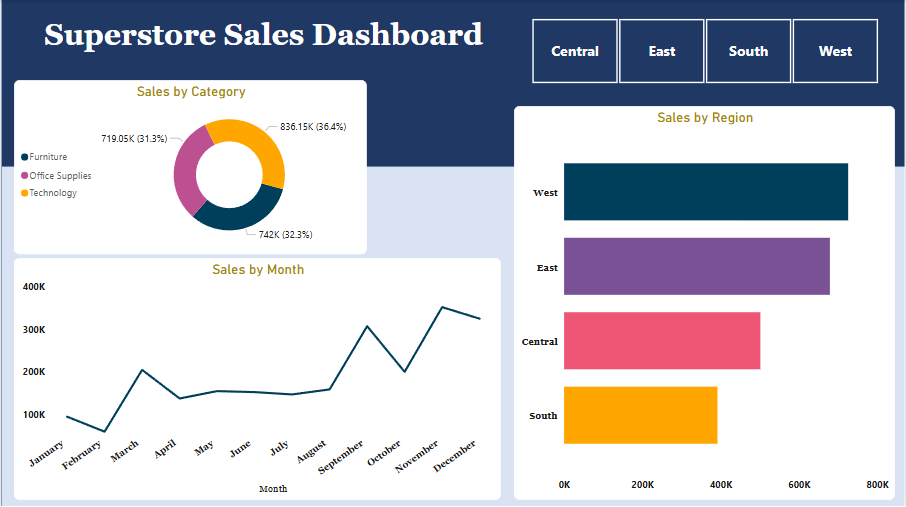

The dashboard page shown, as its layout file describes it:
{"tool":"powerbi","page":{"name":"Page 1","canvas":[1280,720],"ordinal":0},"visuals":[{"type":"lineChart","title":"Sales by Month","fields":{"Y":["Sum(Orders.Sales)"],"Category":["Orders.Order Date.Variation.Date Hierarchy.Month"]},"box":[18.4,365.7,690.2,343],"z":0},{"type":"barChart","title":"Sales by Region","fields":{"Y":["Sum(Orders.Sales)"],"Category":["Orders.Region"]},"box":[727.1,150.2,540,558.4],"z":1},{"type":"donutChart","title":"Sales by Category","fields":{"Y":["Sum(Orders.Sales)"],"Series":["Orders.Category"]},"box":[18.4,113.4,500.3,246.6],"z":2},{"type":"textbox","box":[0,19.8,744.1,75.1],"z":3},{"type":"slicer","fields":{"Values":["Orders.Region"]},"box":[727.1,19.8,540,104.9],"z":4}]}

Visuals, with their boxes in screenshot pixels (x1, y1, x2, y2), scaled from the page's 1280x720 canvas onto the 906x507 screenshot:
"Sales by Month" lineChart: left=13, top=258, right=502, bottom=499
"Sales by Region" barChart: left=515, top=106, right=897, bottom=499
"Sales by Category" donutChart: left=13, top=80, right=367, bottom=254
textbox: left=0, top=14, right=527, bottom=67
slicer - Orders.Region: left=515, top=14, right=897, bottom=88
